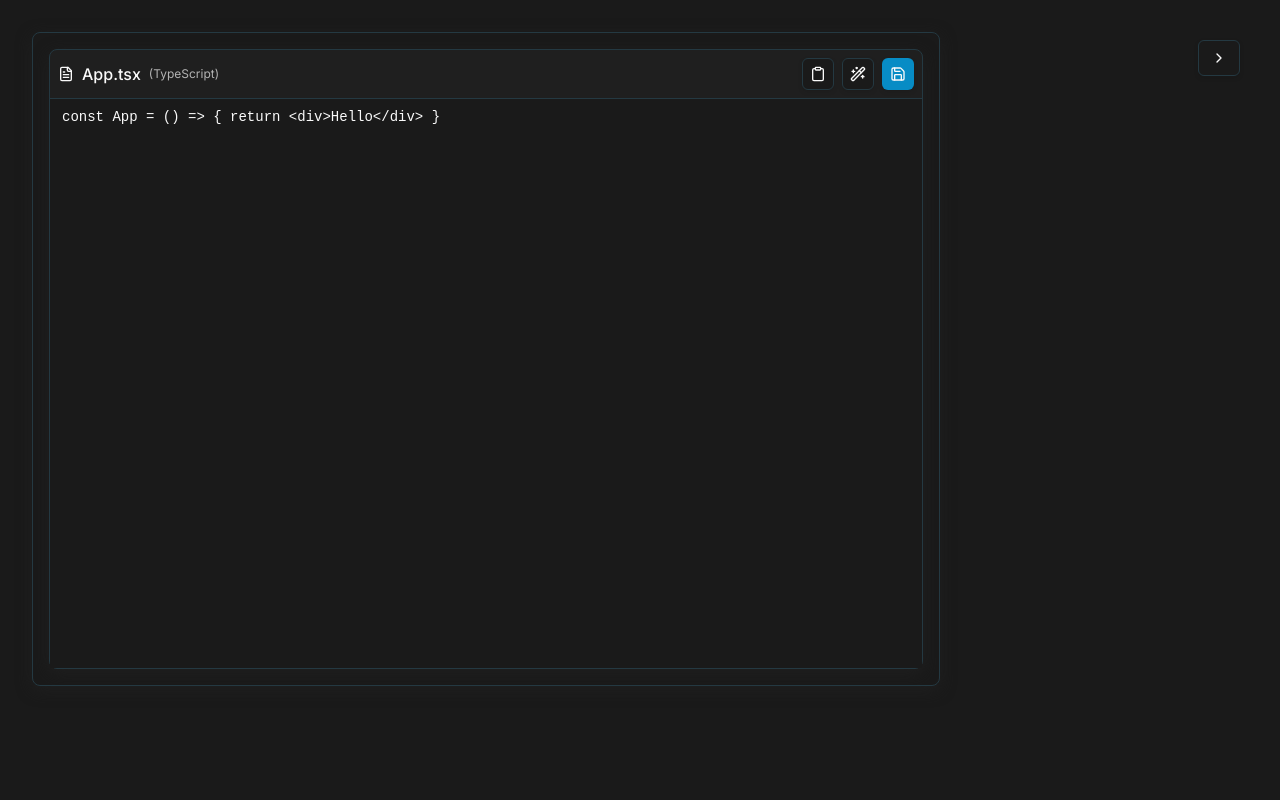
Test case: FileExplorer Component › renders mobile layout with toggle functionality
Expected: the text "Project Files" is not shown
// Click to show files
Click the button named "Show files". click: [1219, 58]
box: [1198,40,1240,76]
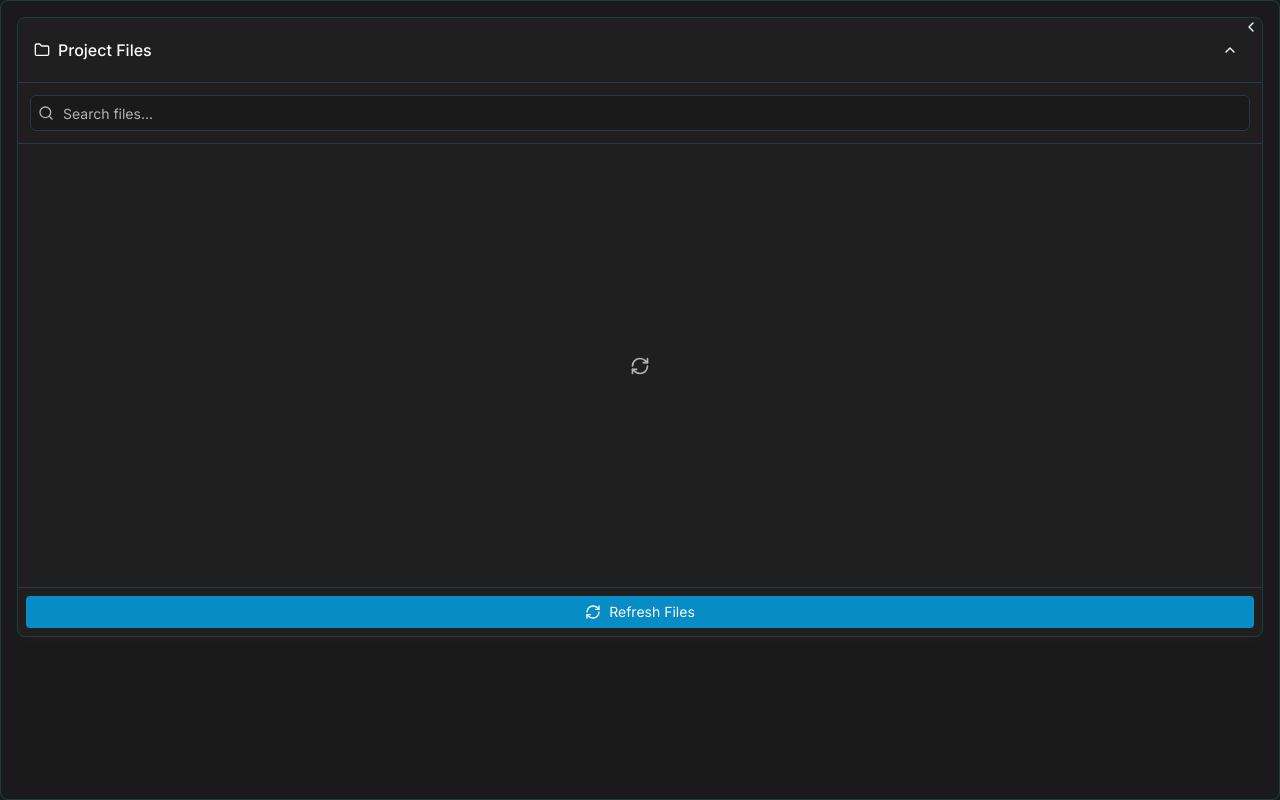
Expected: the heading "Project Files" is shown, [34,38,152,62]
Expected: the button named "Close file browser" is shown
// Click to hide files
Click the button named "Close file browser". click: [1251, 27]
box: [1231,9,1271,45]
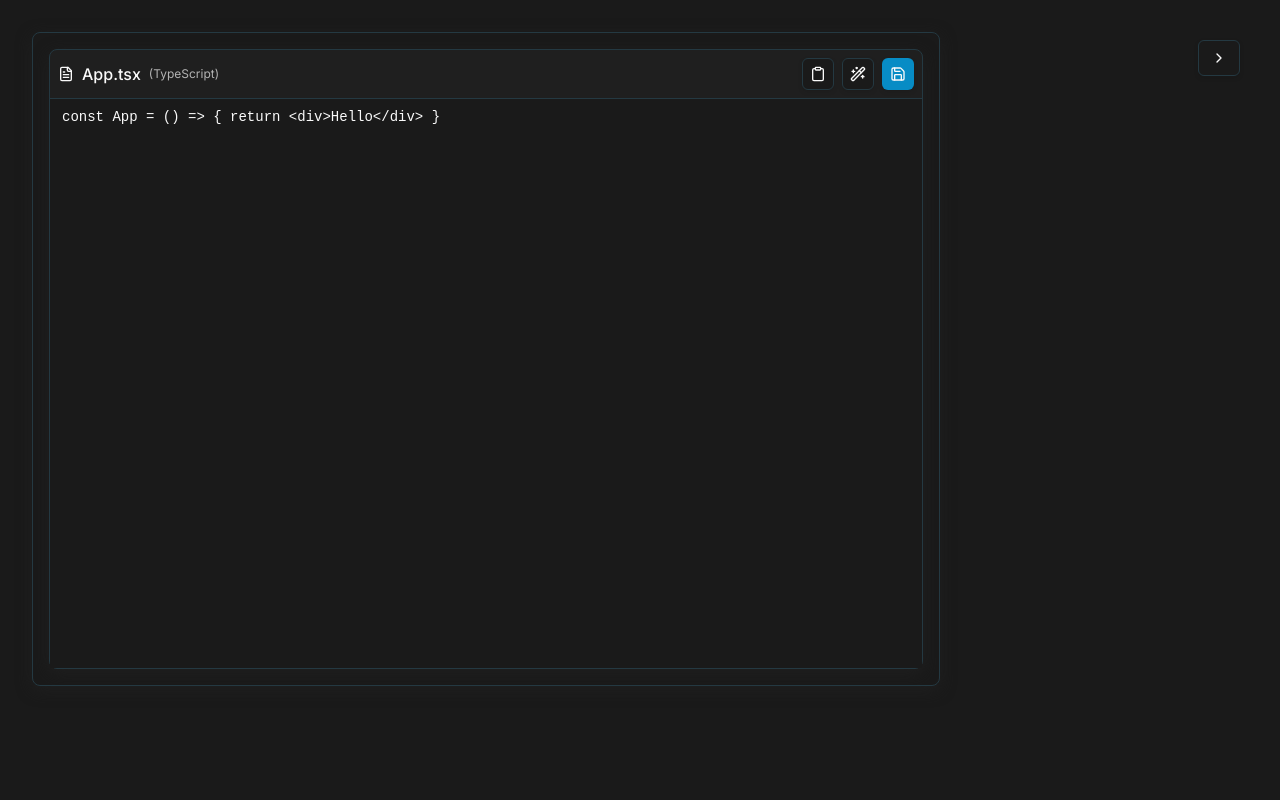
Expected: the heading "Project Files" is gone
